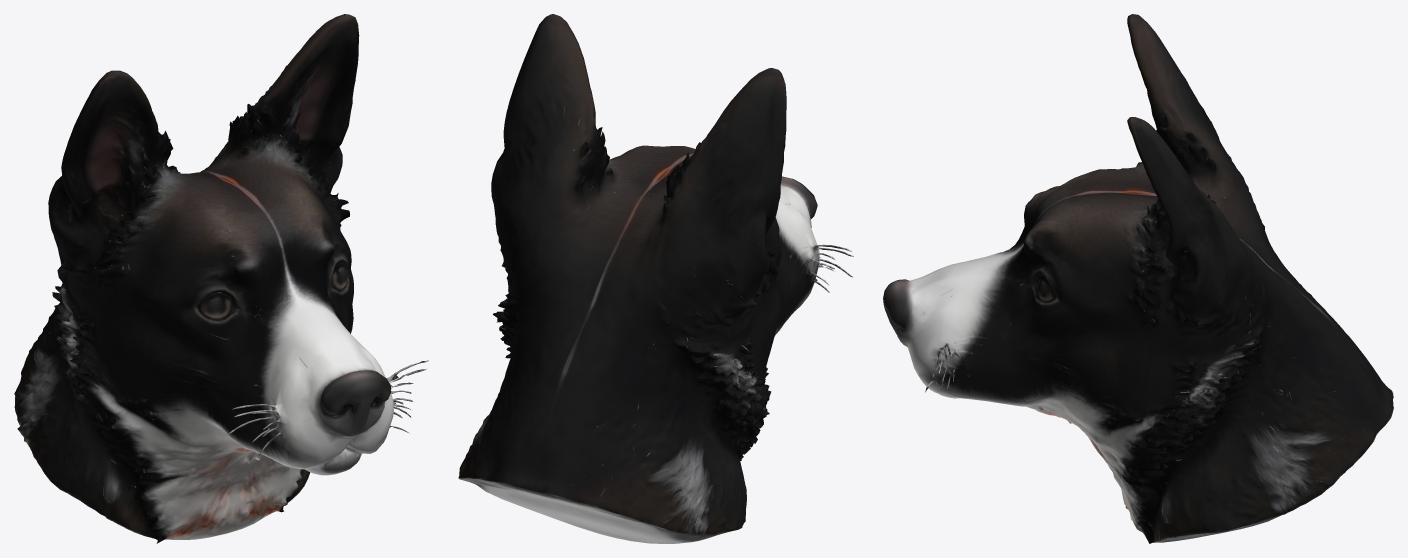
The picture shows the model from 3 angles, left to right: view 1: azimuth 30°, elevation 25°; view 2: azimuth 150°, elevation 25°; view 3: azimuth 270°, elevation 25°; orthographic projection. The views are drawn at different scales.
Bounding box in the file's own units: 1.14 × 1.89 × 1.91.
1 material, 1 textured.
